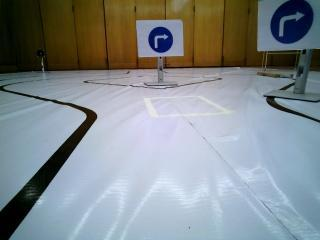right: (255, 1, 320, 46), (139, 21, 185, 56)
